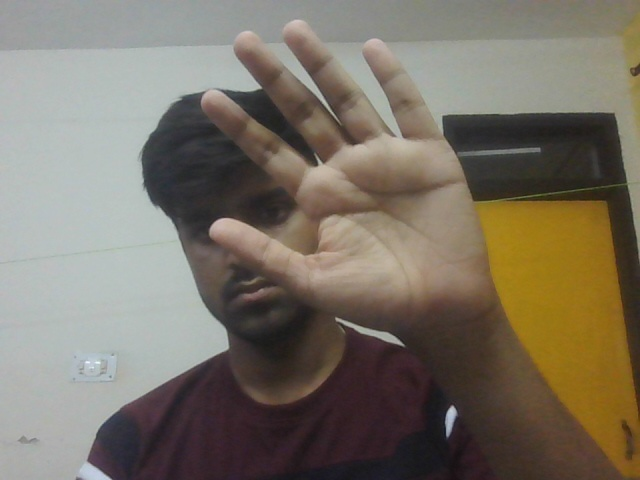hello: (187, 11, 571, 356)
